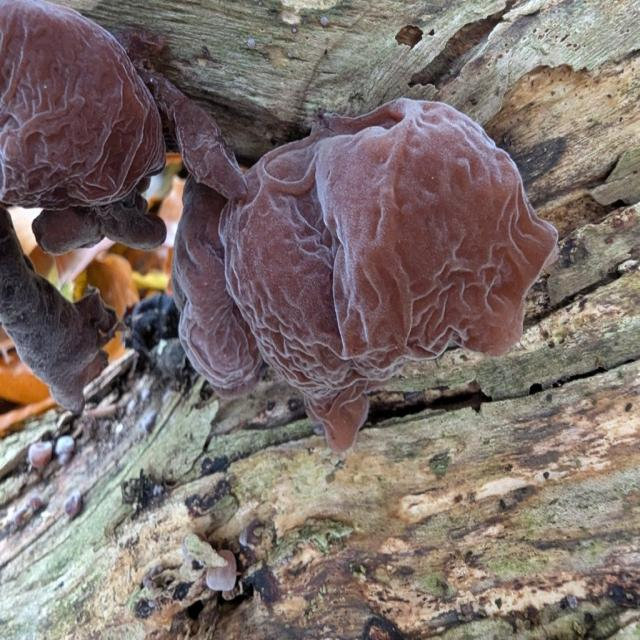Matang: (218, 94, 561, 456), (0, 0, 167, 209), (0, 211, 122, 423), (171, 162, 267, 404), (146, 50, 251, 203), (31, 197, 169, 255)
